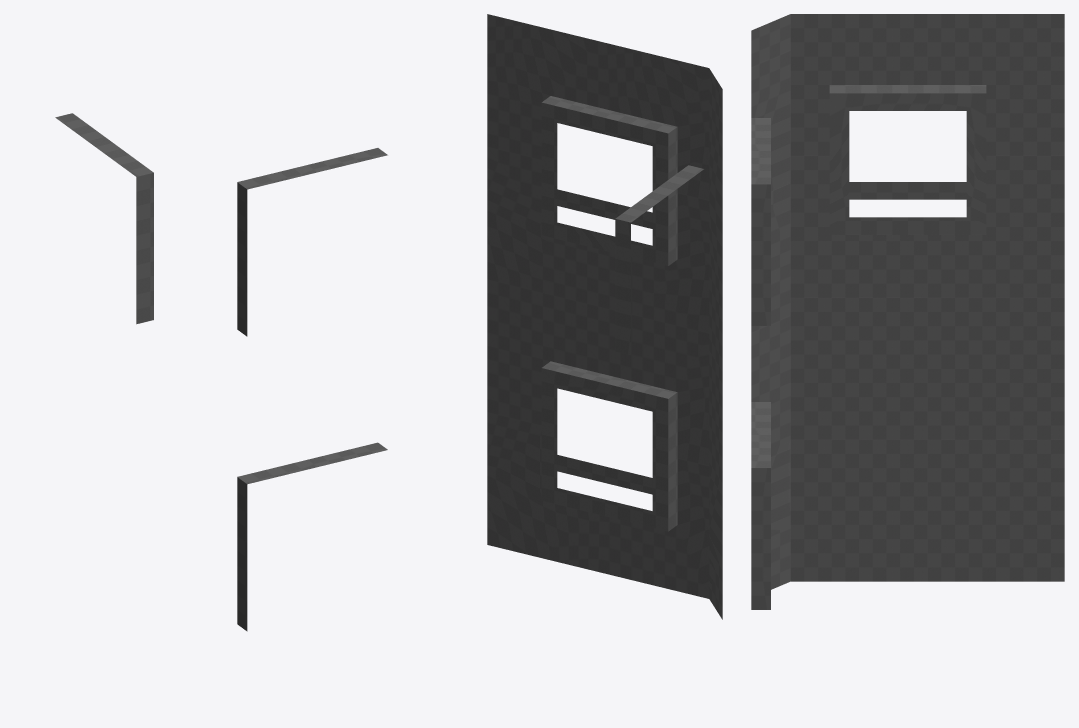
The picture shows the model from 3 angles, left to right: view 1: azimuth 30°, elevation 25°; view 2: azimuth 150°, elevation 25°; view 3: azimuth 270°, elevation 25°; orthographic projection. The views are drawn at different scales.
Parts seen in each view (by area): view 1: 3; view 2: 3; view 3: 3.
Boxes of the visible parts, x1,y1,x2,y2 form: 3: (55,113,387,631); 3: (487,14,722,619); 3: (751,14,1064,609).
Size of the model in its own units: 2 by 4 by 2.
Materials: 2 (2 with a texture image).
